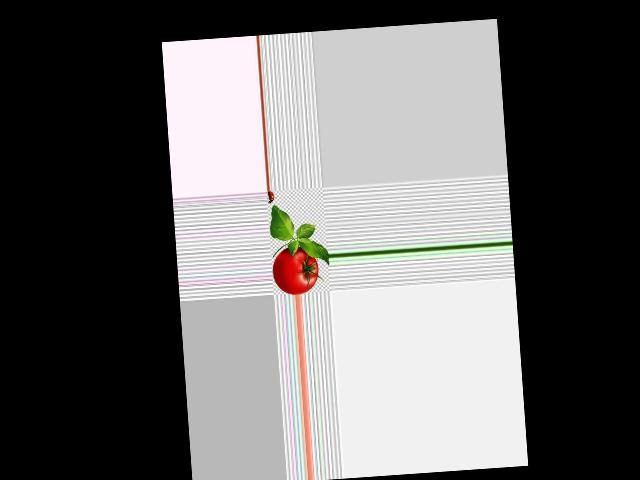tomato: (271, 245, 319, 296)
